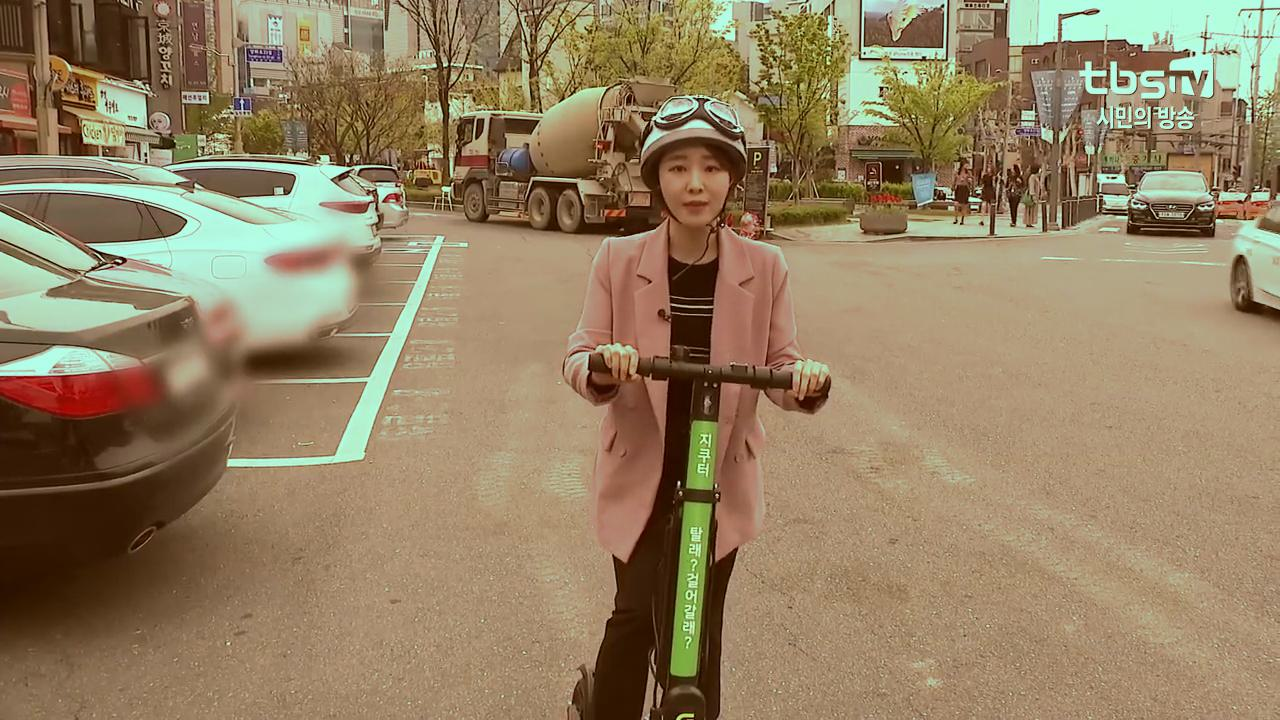helmet: (563, 94, 833, 720)
